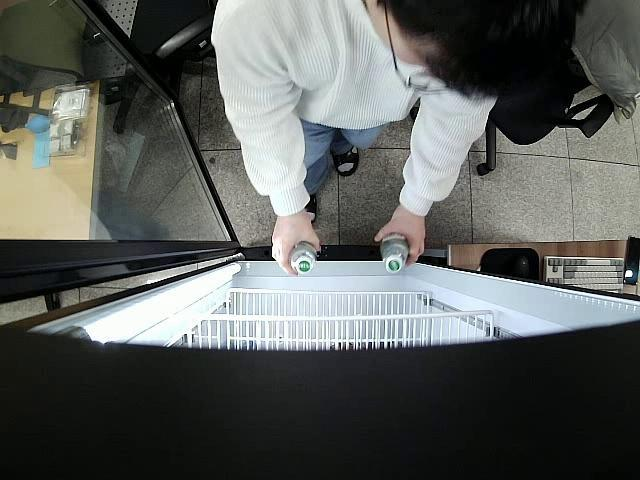18_trevi: (380, 229, 410, 276), (289, 242, 318, 275)
